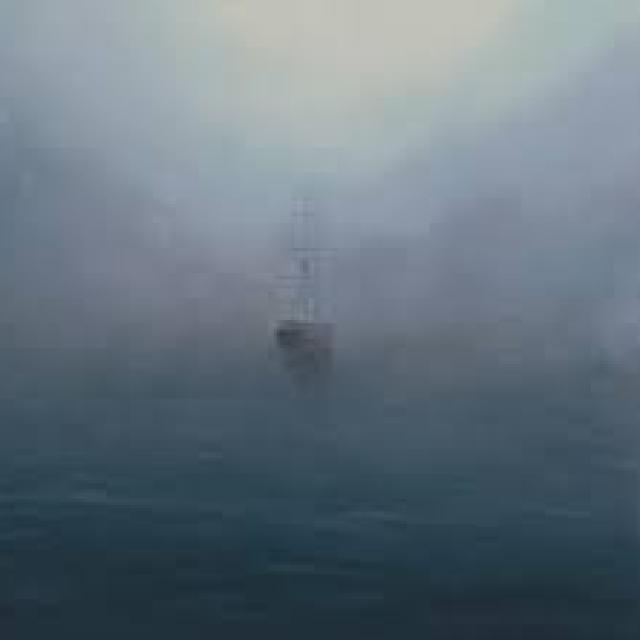fishing boat: (250, 241, 351, 370)
